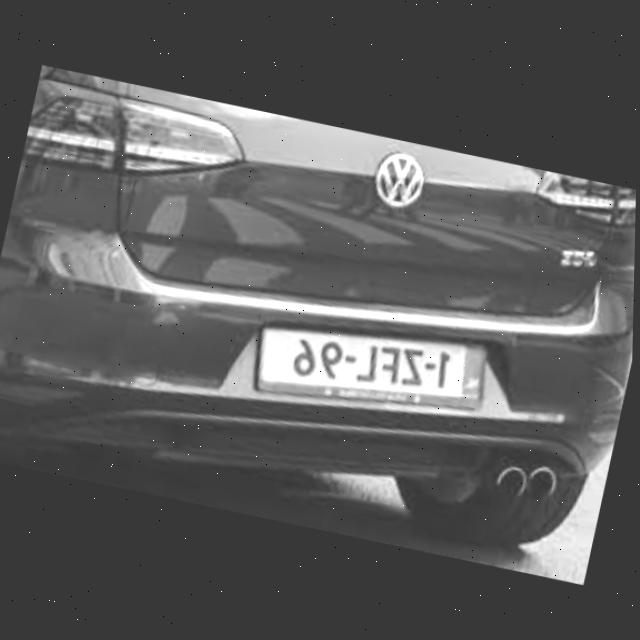license-plates: (256, 327, 487, 405)
